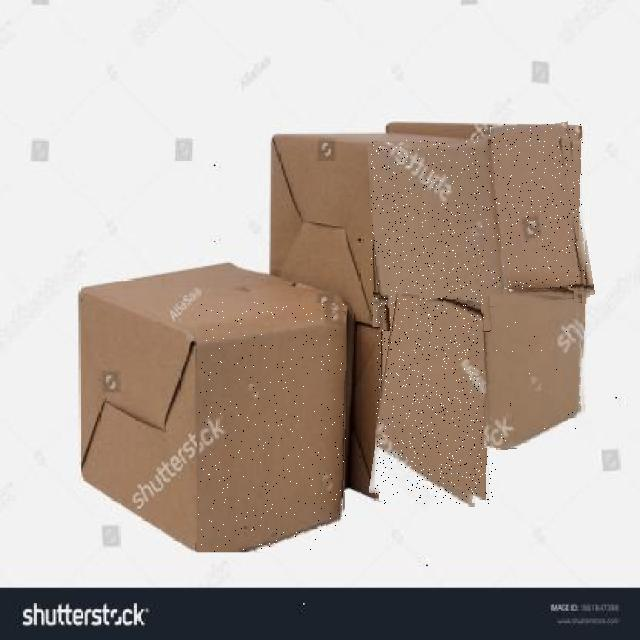BoxFace: (197, 302, 346, 552), (375, 296, 496, 504), (370, 140, 501, 329), (483, 124, 589, 305), (484, 289, 590, 448)
